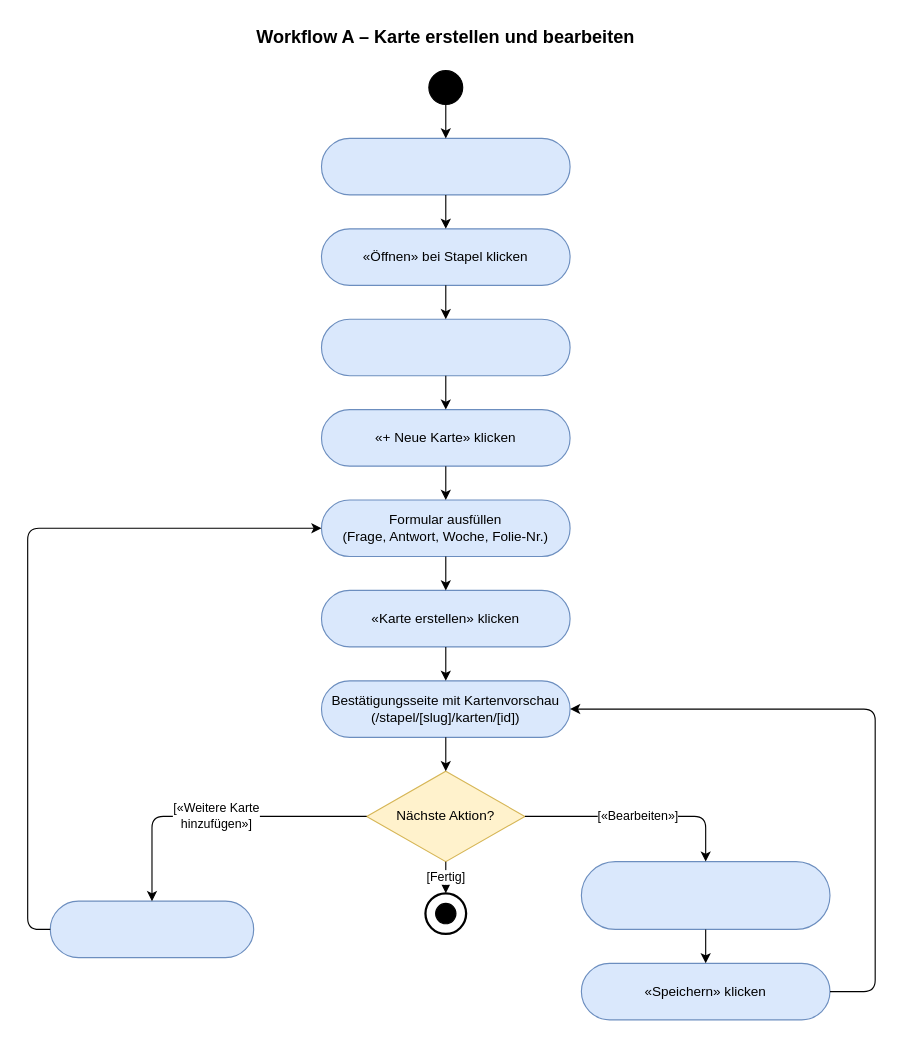
Image size: 904x1040. Some labels were removed from this diagram. Here are the shapes that lost their labels. From the top down, the box of each, then its label:
(320, 137, 570, 195): Stapelübersicht aufrufen (/stapel)
(320, 318, 570, 376): Stapel-Detail öffnet sich (/stapel/[slug])
(580, 860, 830, 929): Formular mit bestehenden Daten öffnen (/stapel/[slug]/karten/[id]/bearbeiten)
(49, 900, 254, 958): Formular leeren
